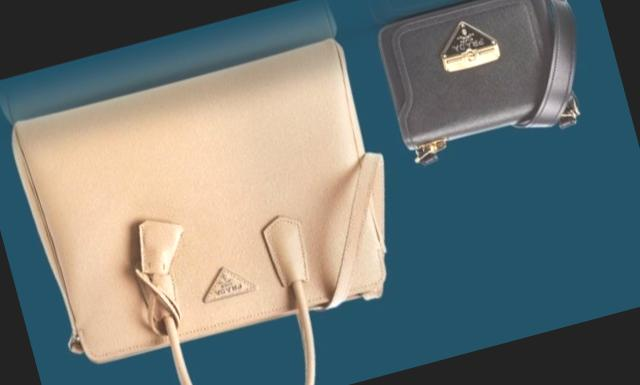PRADA: (193, 259, 255, 304), (433, 15, 495, 58)
